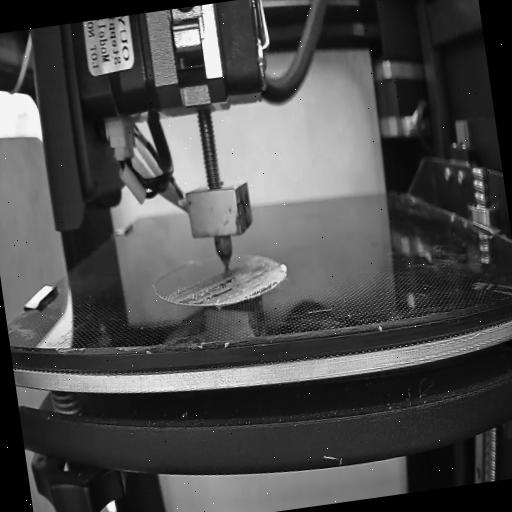under_extrusion: (172, 276, 240, 308), (246, 274, 282, 300)
